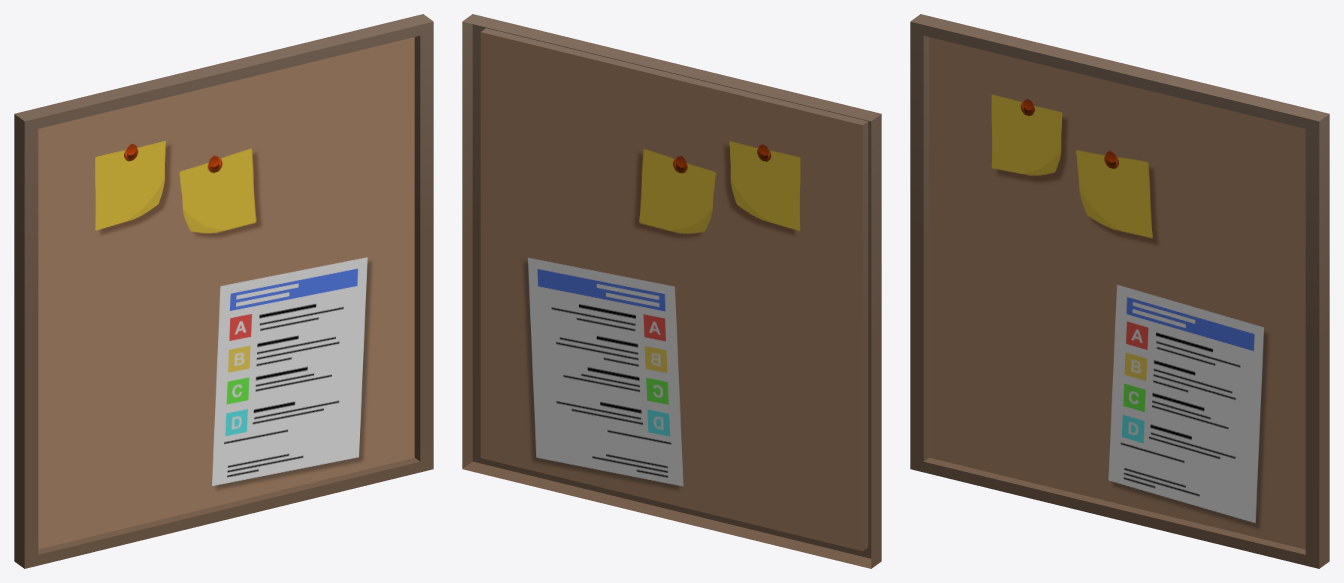
The model's file is Bulletin.fbx.
3 views of the same model, side by side, from view 1: azimuth 30°, elevation 25°; view 2: azimuth 150°, elevation 25°; view 3: azimuth 330°, elevation 25° (orthographic).
Visible parts, largest first — view 1: Bulletin; view 2: Bulletin; view 3: Bulletin.
Part boxes in pixels (<box>): Bulletin: <box>14,14,433,568</box>; Bulletin: <box>462,14,881,568</box>; Bulletin: <box>910,14,1329,568</box>.
Bounding box in the file's own units: 101 × 105 × 4.44.
